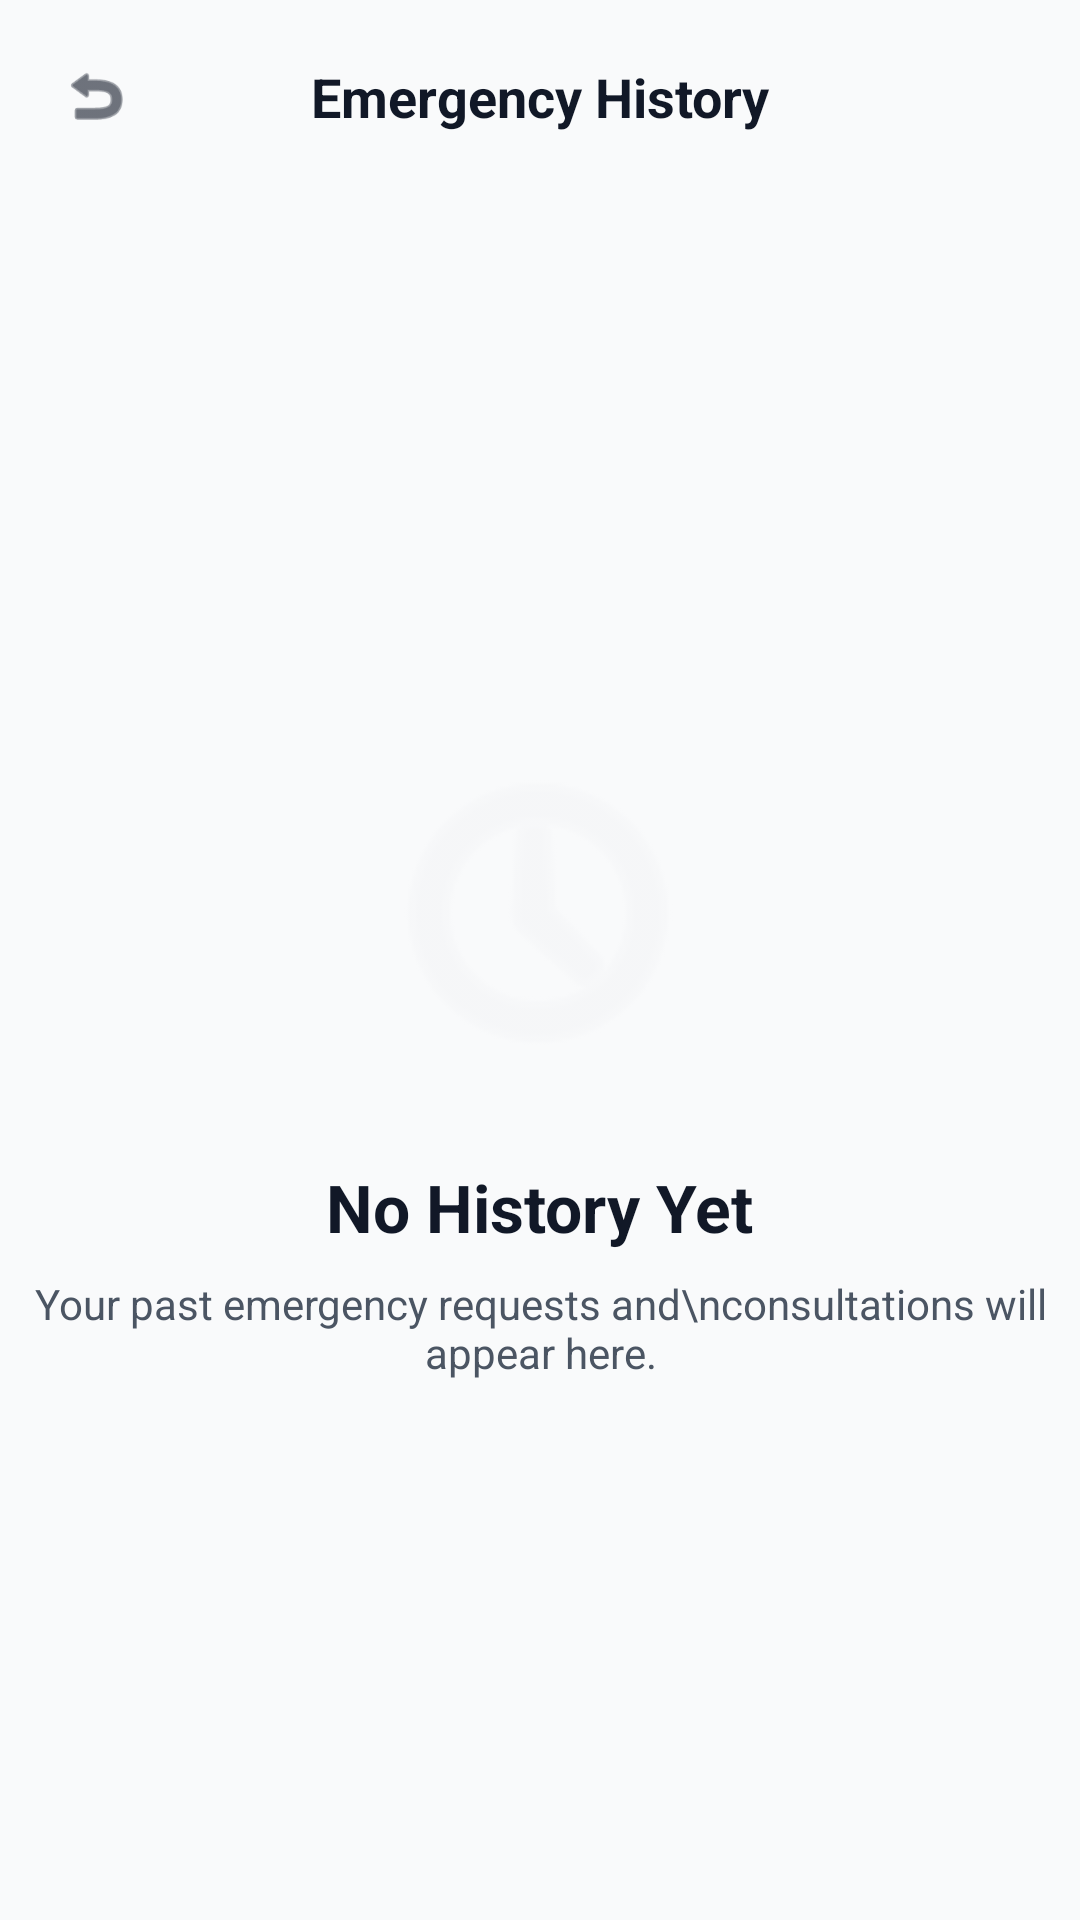

Icons on this 1080 x 1920 Android screen, each with its box as Rect(x1, y1, x2, y2):
revert: Rect(71, 73, 123, 120)
